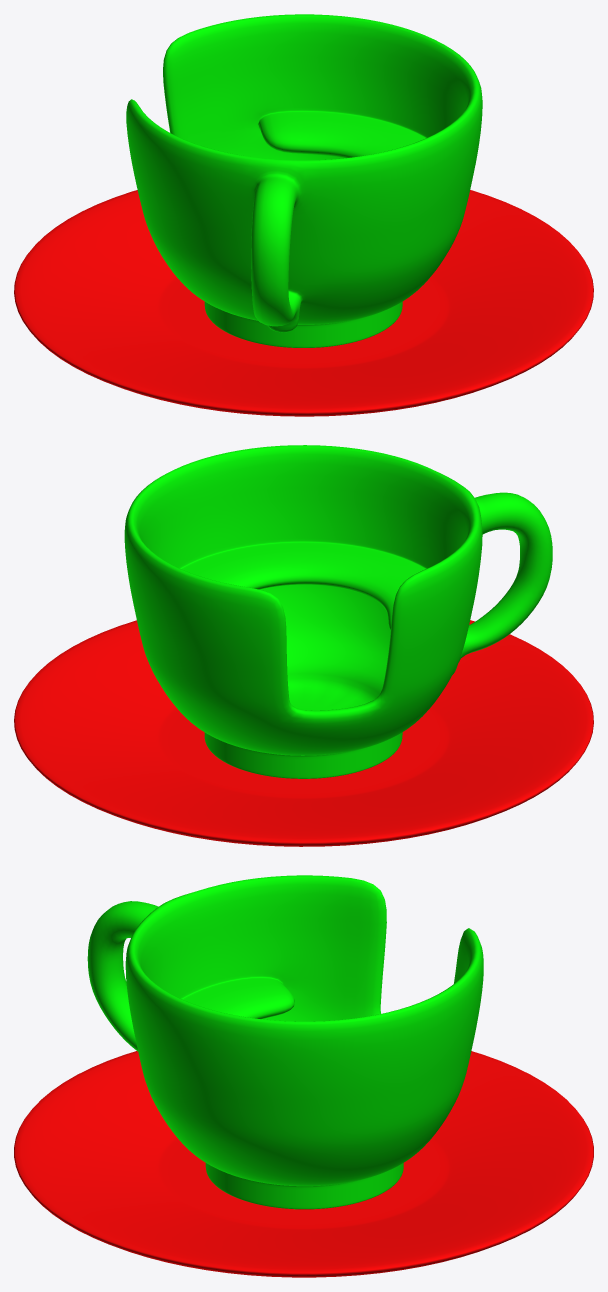
The model's file is teacup tex.fbx.
The picture shows the model from 3 angles, top to bottom: view 1: azimuth 30°, elevation 25°; view 2: azimuth 150°, elevation 25°; view 3: azimuth 270°, elevation 25°; orthographic projection.
Parts seen in each view (by area): view 1: polySurface58, polySurface49; view 2: polySurface58, polySurface49; view 3: polySurface58, polySurface49.
Part boxes in pixels (bbox=[...]): polySurface58: bbox=[126, 14, 482, 347]; polySurface49: bbox=[14, 190, 593, 416]; polySurface58: bbox=[124, 445, 552, 778]; polySurface49: bbox=[14, 620, 593, 846]; polySurface58: bbox=[87, 875, 483, 1209]; polySurface49: bbox=[14, 1051, 593, 1277].
Size of the model in its own units: 5.32 by 2.48 by 5.32.
